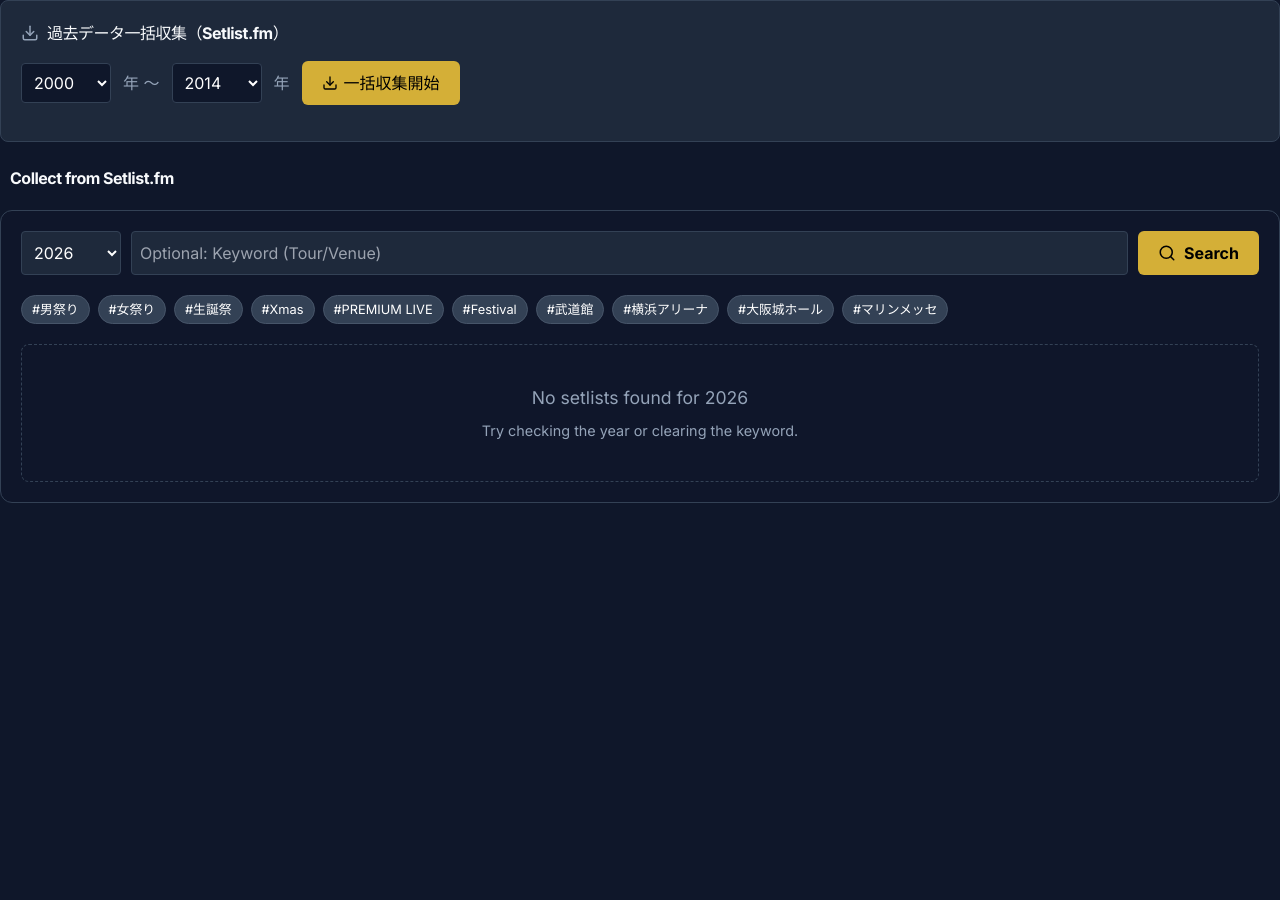
Test: AdminCollectTab 追加経路の現状確認 › 同日同会場の既存公演は選択一括追加から除外される
What coordinates should you click on to do the following:
click the button "Search"
I would click on:
 (1198, 253)
Its box is [1138,231,1259,275].
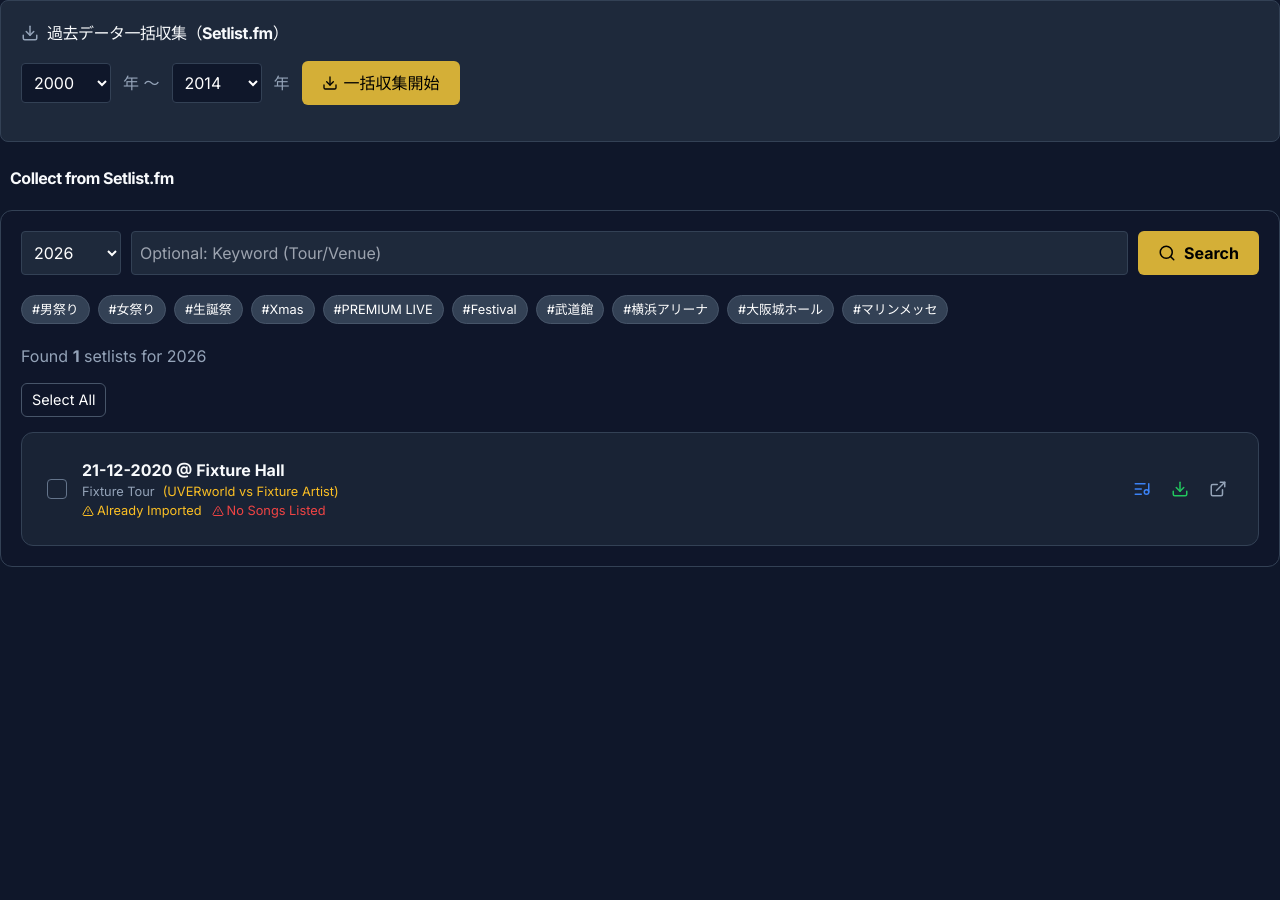
Expected: the button titled "Import This Setlist" is shown, [1165,474,1195,504]
Expected: the text "Already Imported" is shown, [82,501,202,520]
What coordinates should you click on to do the following:
click the button "Select All"
I would click on:
 (64, 400)
Its box is [21,383,106,417].
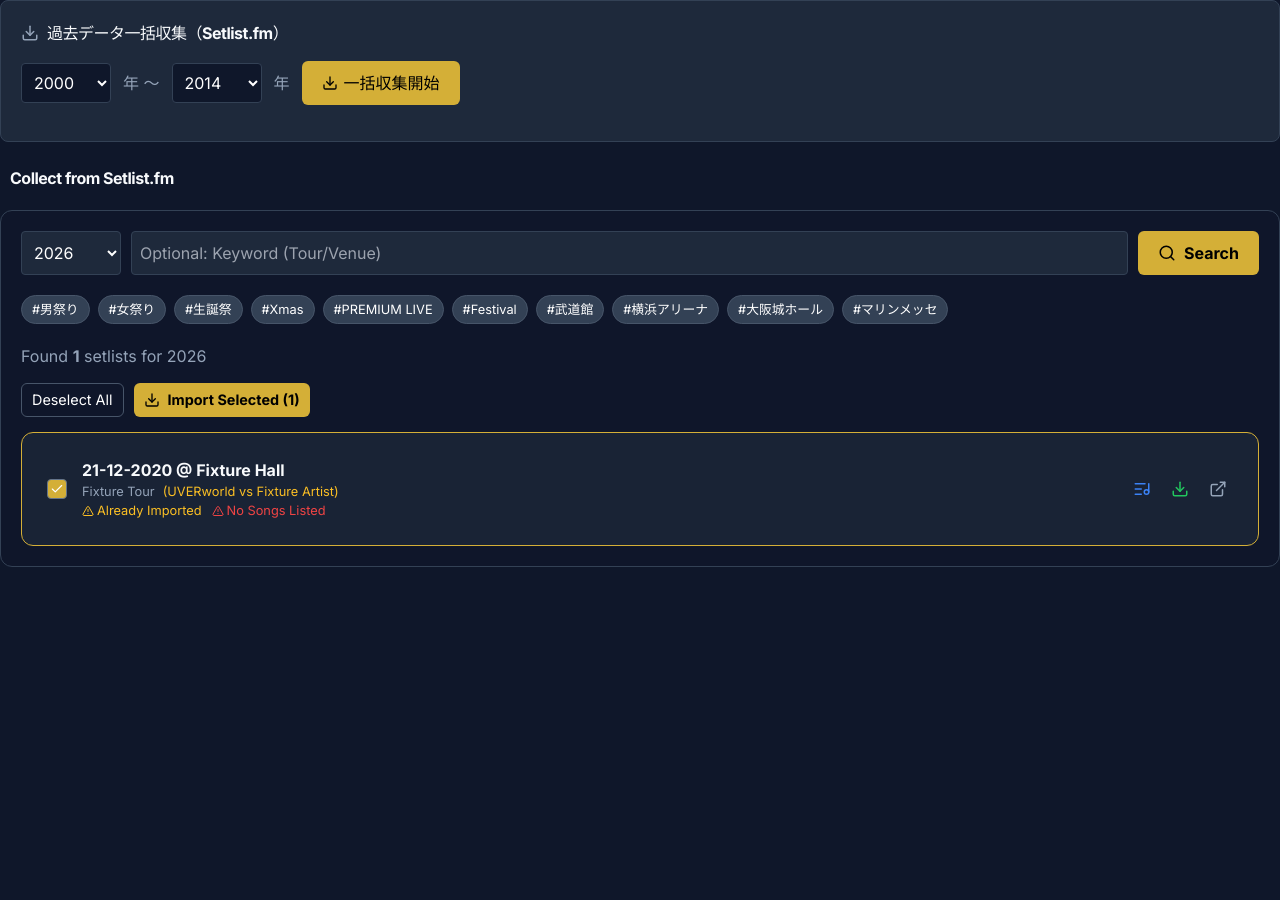
What coordinates should you click on to do the following:
click the button "Import Selected (1)"
I would click on:
 (222, 400)
Its box is [134,383,310,417].
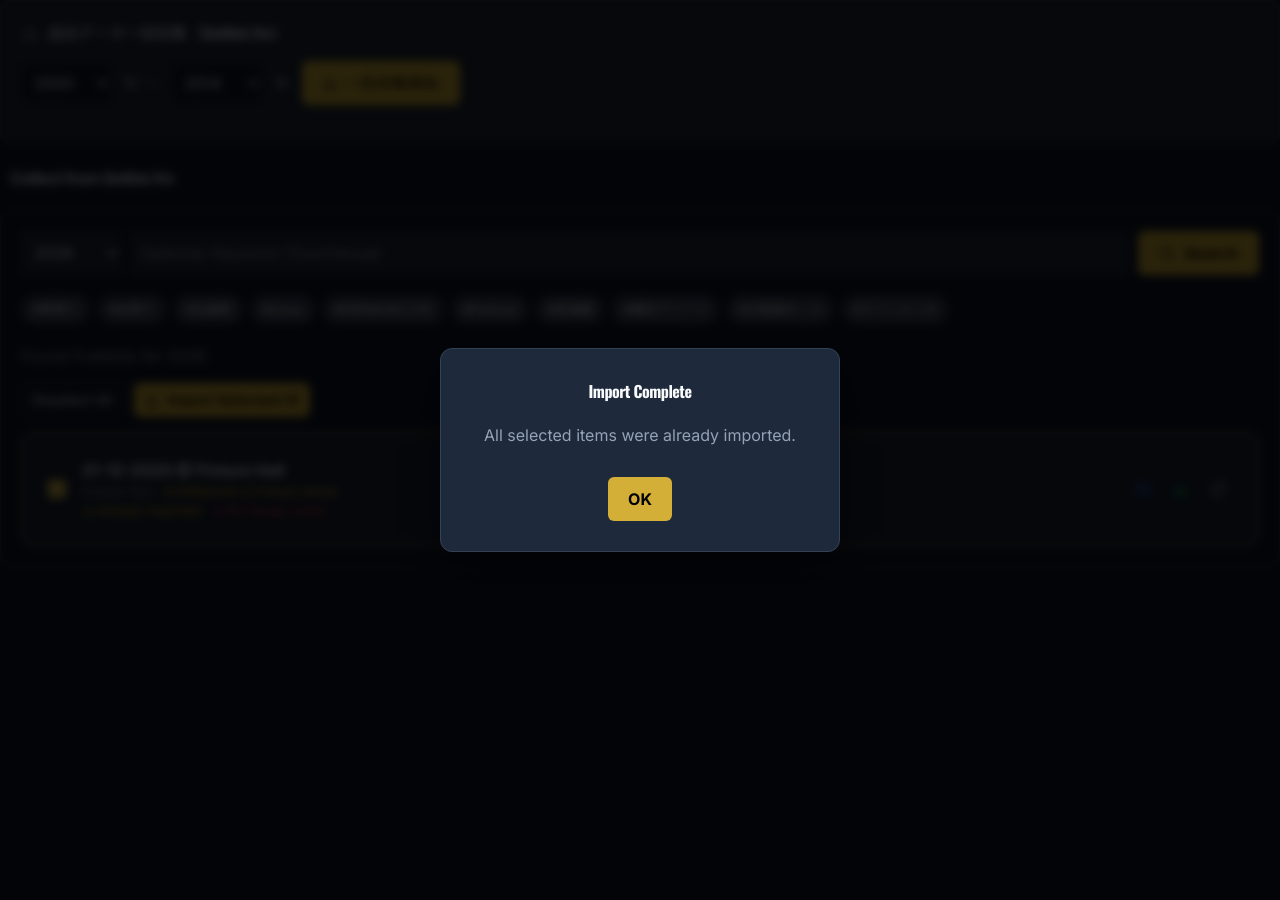
Expected: the text "All selected items were already imported." is shown, [471,423,809,447]
